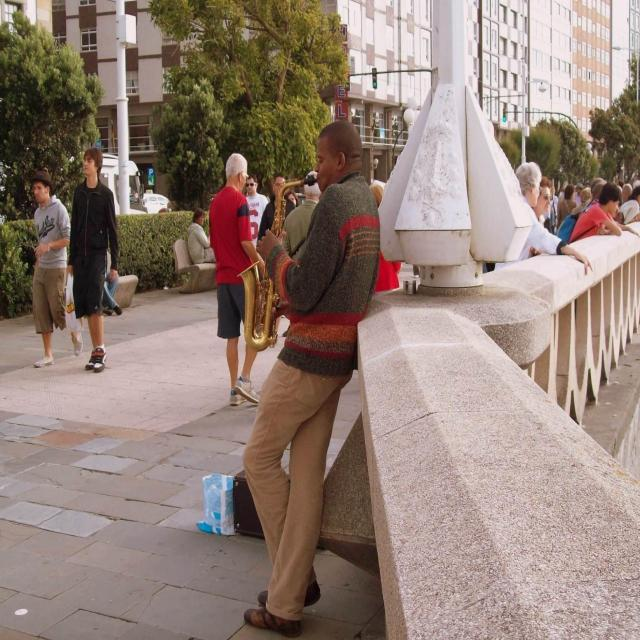saxophone: (234, 172, 319, 353)
